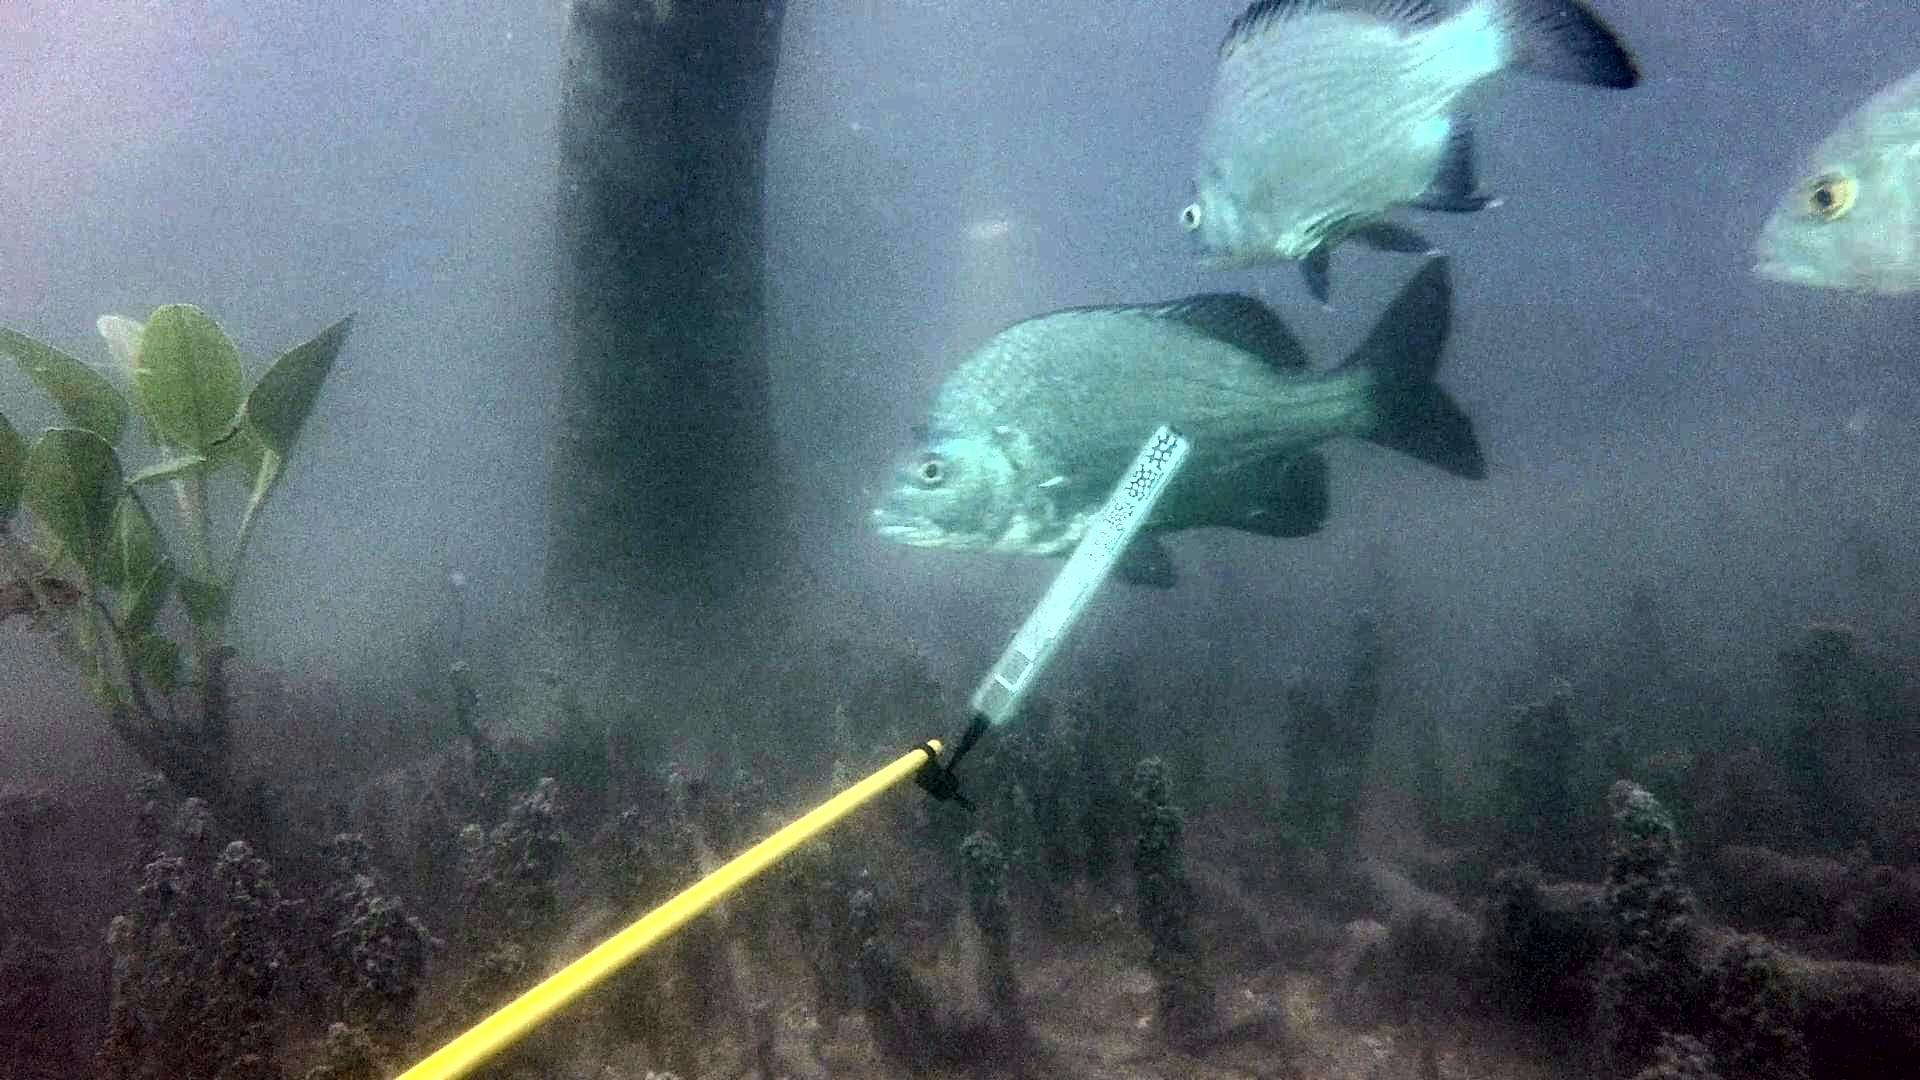acanthopagrus palmaris: (861, 241, 1499, 599), (1171, 0, 1649, 316)
caranx: (1736, 53, 1920, 319)
